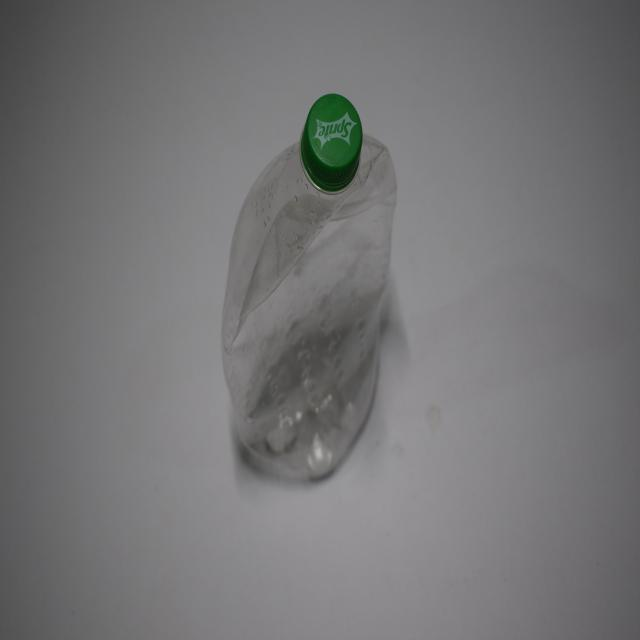bottle: (210, 69, 405, 506)
